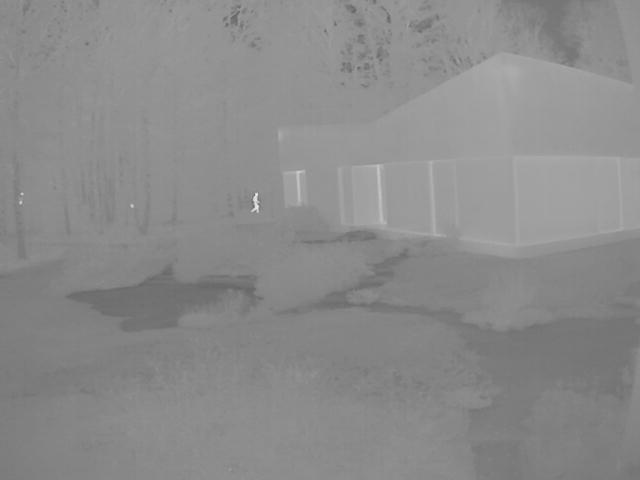person: (251, 191, 262, 214)
